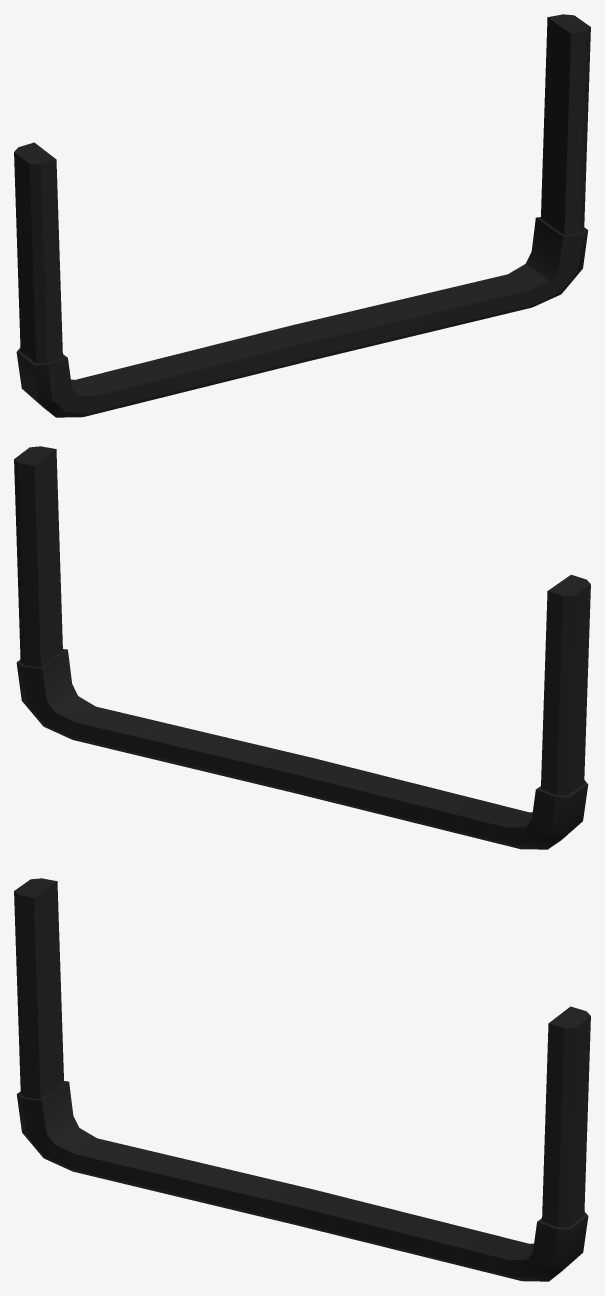
File: Gaming_Chair_Arms_Base_1.obj
3 views of the same model, one above another, from view 1: azimuth 30°, elevation 25°; view 2: azimuth 150°, elevation 25°; view 3: azimuth 330°, elevation 25° (orthographic).
Visible parts, largest first — view 1: Gaming_Chair_Arms_Base_1; view 2: Gaming_Chair_Arms_Base_1; view 3: Gaming_Chair_Arms_Base_1.
Part boxes in pixels (x1,y1,x2,y2): Gaming_Chair_Arms_Base_1: (14,14,590,417); Gaming_Chair_Arms_Base_1: (14,446,590,849); Gaming_Chair_Arms_Base_1: (14,878,590,1281).
Bounding box in the file's own units: 0.6829 × 0.3142 × 0.0561.
